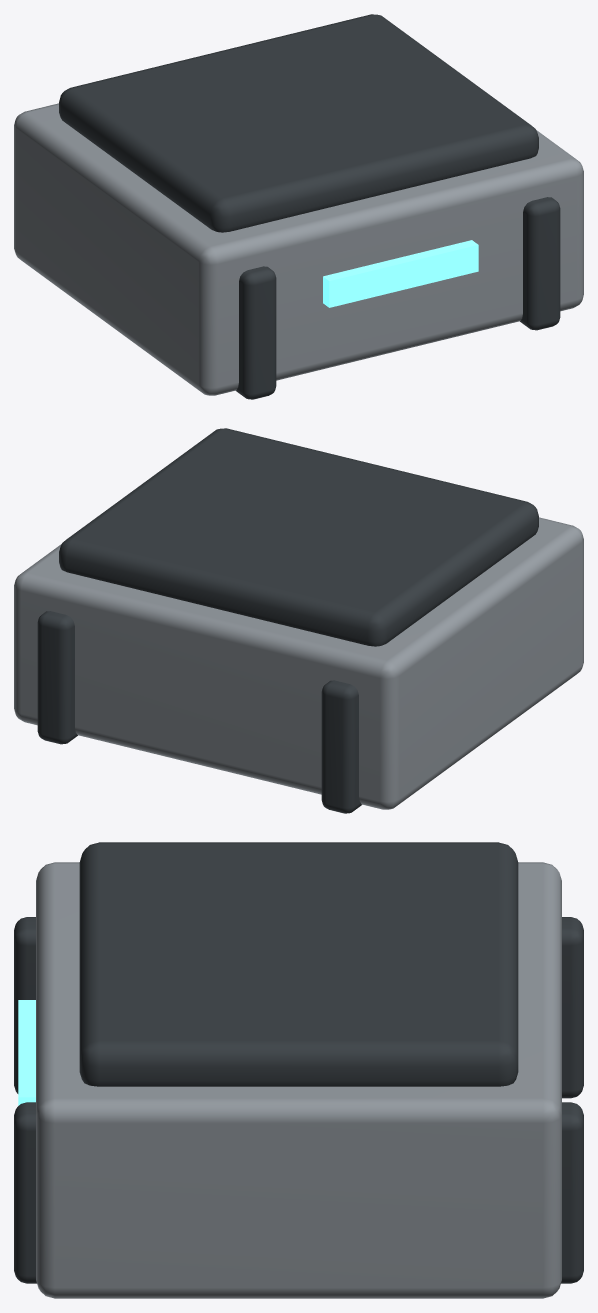
File: ZH_ENV_V5_DATA_CARTRIDGE_1.fbx
3 views of the same model, one above another, from view 1: azimuth 30°, elevation 25°; view 2: azimuth 150°, elevation 25°; view 3: azimuth 270°, elevation 25° (orthographic). The views are drawn at different scales.
Visible parts, largest first — view 1: Cartridge | alloy body.002, Cartridge | top cap.002, Cartridge | indicator.002, Cartridge | protection rail.004, Cartridge | protection rail.005; view 2: Cartridge | alloy body.002, Cartridge | top cap.002, Cartridge | protection rail.004, Cartridge | protection rail.005; view 3: Cartridge | alloy body.002, Cartridge | top cap.002, Cartridge | protection rail.005, Cartridge | protection rail.004, Cartridge | indicator.002.
Boxes of the visible parts, left/top/right/bottom form: Cartridge | alloy body.002: left=14, top=103, right=583, bottom=395; Cartridge | top cap.002: left=59, top=14, right=538, bottom=232; Cartridge | indicator.002: left=323, top=240, right=478, bottom=307; Cartridge | protection rail.004: left=236, top=266, right=276, bottom=399; Cartridge | protection rail.005: left=520, top=197, right=560, bottom=330; Cartridge | alloy body.002: left=14, top=517, right=583, bottom=809; Cartridge | top cap.002: left=59, top=428, right=538, bottom=646; Cartridge | protection rail.004: left=321, top=680, right=361, bottom=813; Cartridge | protection rail.005: left=37, top=611, right=77, bottom=744; Cartridge | alloy body.002: left=36, top=862, right=561, bottom=1298; Cartridge | top cap.002: left=79, top=842, right=518, bottom=1086; Cartridge | protection rail.005: left=14, top=1102, right=583, bottom=1283; Cartridge | protection rail.004: left=14, top=917, right=583, bottom=1098; Cartridge | indicator.002: left=18, top=1000, right=35, bottom=1105.
Bounding box in the file's own units: 0.27 × 0.122 × 0.26.
